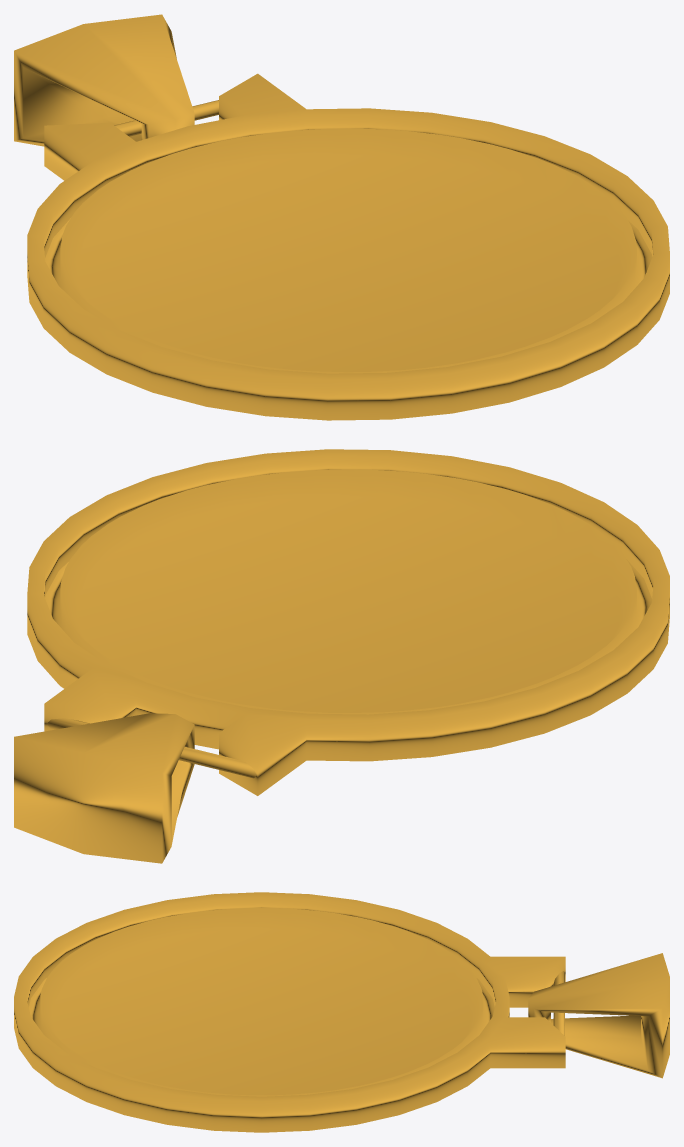
File: Pendant_Blank.fbx
The picture shows the model from 3 angles, top to bottom: view 1: azimuth 30°, elevation 25°; view 2: azimuth 150°, elevation 25°; view 3: azimuth 270°, elevation 25°; orthographic projection. The views are drawn at different scales.
Visible parts, largest first — view 1: Pendant_Blank; view 2: Pendant_Blank; view 3: Pendant_Blank.
Part boxes in pixels (left/top/right/bottom): Pendant_Blank: left=14, top=14, right=669, bottom=420; Pendant_Blank: left=14, top=449, right=669, bottom=863; Pendant_Blank: left=14, top=892, right=669, bottom=1132.
Size of the model in its own units: 200 by 34.56 by 265.
